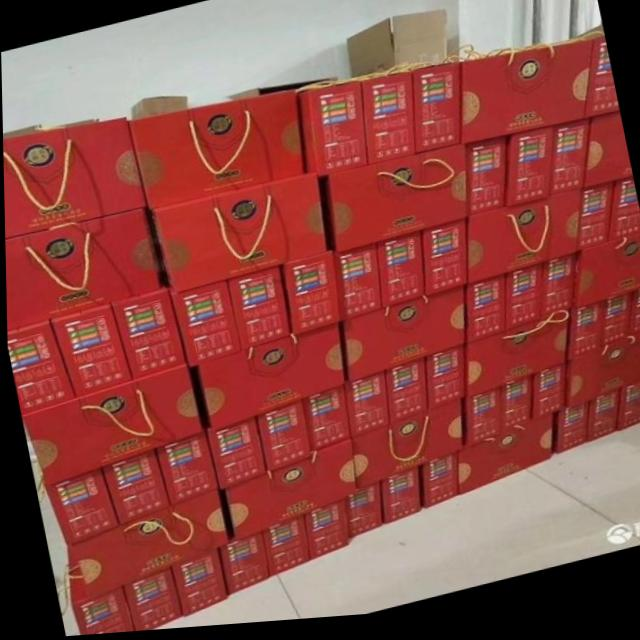box: (21, 365, 202, 487), (150, 175, 325, 295), (126, 94, 304, 210), (63, 490, 226, 606), (4, 210, 158, 332), (2, 118, 144, 240), (197, 325, 344, 432), (326, 151, 469, 257), (460, 49, 593, 149), (222, 444, 354, 543), (342, 292, 463, 386), (465, 197, 583, 290), (349, 405, 461, 496), (464, 317, 568, 404), (48, 303, 129, 397), (456, 421, 549, 502), (109, 288, 183, 381), (295, 87, 366, 182), (345, 16, 446, 82), (168, 281, 241, 368), (6, 321, 72, 417), (563, 340, 640, 418), (43, 468, 116, 547), (226, 269, 291, 353), (572, 240, 640, 317), (278, 255, 341, 338), (361, 76, 415, 169), (97, 453, 166, 524), (154, 435, 217, 506), (203, 419, 263, 492), (252, 404, 310, 476), (413, 69, 459, 159), (120, 567, 181, 633), (168, 550, 225, 619), (581, 120, 631, 197), (373, 237, 423, 313), (419, 226, 467, 303), (507, 136, 553, 213), (333, 247, 379, 323), (257, 517, 310, 582), (67, 587, 134, 636), (216, 534, 266, 598), (300, 390, 348, 456), (464, 144, 505, 221), (545, 129, 585, 204), (344, 376, 388, 442), (381, 361, 424, 428), (582, 48, 618, 126), (423, 350, 464, 417), (500, 271, 539, 341), (301, 502, 345, 563), (464, 281, 502, 350), (230, 82, 337, 105), (378, 473, 419, 528), (537, 262, 572, 326), (577, 191, 610, 258), (462, 394, 499, 453), (607, 186, 640, 252), (419, 457, 456, 515), (566, 310, 600, 369), (341, 489, 378, 542), (529, 373, 564, 426), (497, 383, 530, 436), (598, 301, 630, 355), (584, 400, 617, 451), (2, 120, 98, 136), (554, 412, 585, 460), (129, 97, 187, 122), (614, 388, 640, 441), (624, 298, 640, 346), (572, 31, 601, 48)
